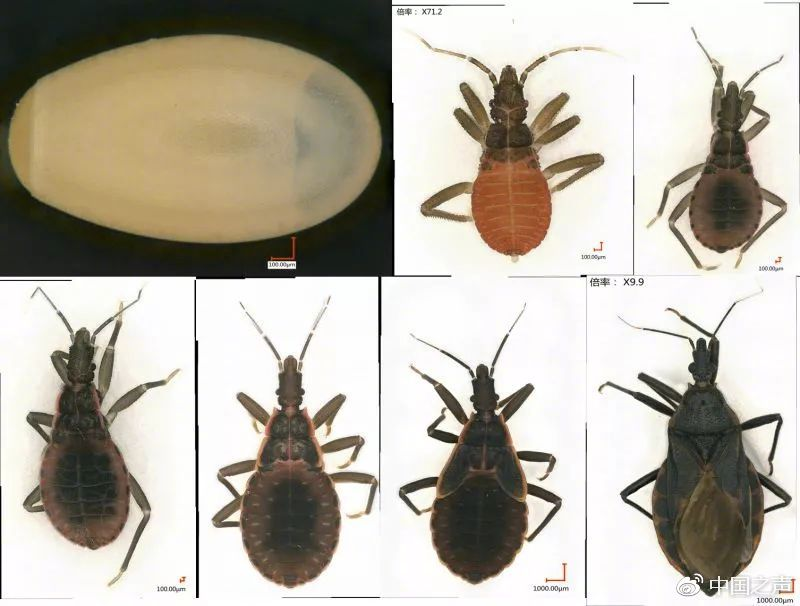chunchong: (612, 293, 796, 601), (390, 302, 567, 583), (203, 302, 375, 586), (10, 305, 178, 576), (425, 52, 613, 264), (653, 56, 791, 265)
